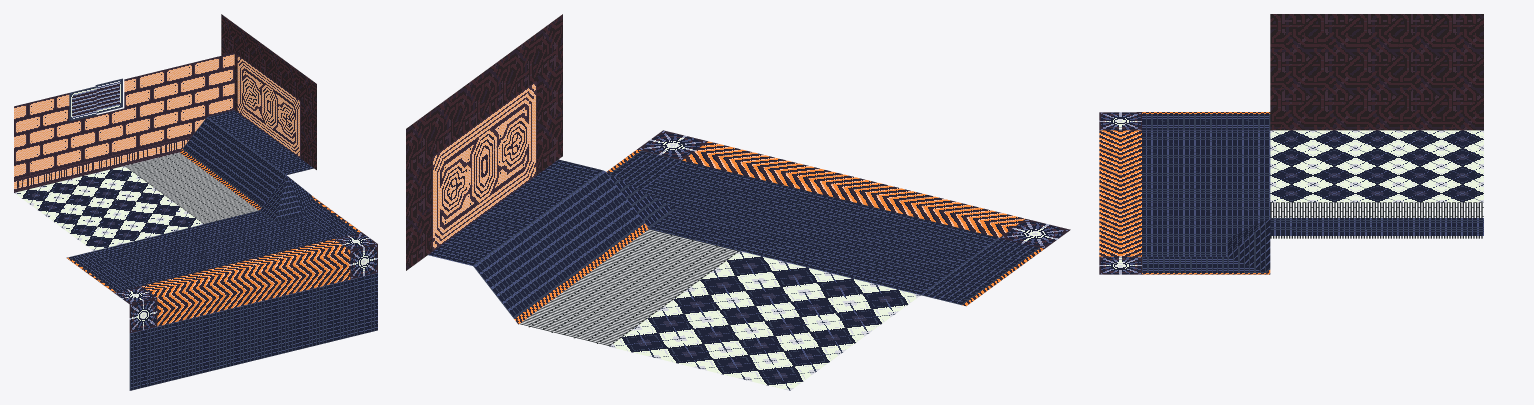
File: ShowRoom.gltf
The picture shows the model from 3 angles, left to right: view 1: azimuth 30°, elevation 25°; view 2: azimuth 150°, elevation 25°; view 3: azimuth 270°, elevation 25°; orthographic projection. The views are drawn at different scales.
Bounding box in the file's own units: 18 × 14 × 19.66.
Materials: 1 (1 with a texture image).
